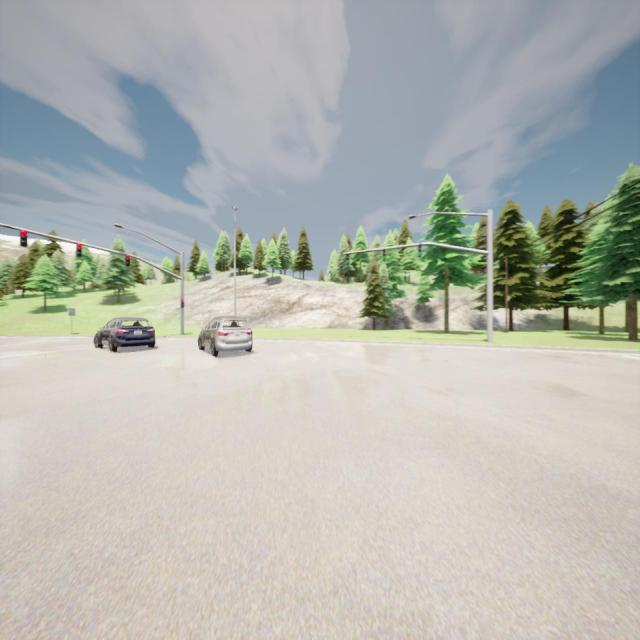Traffic_Signs: (68, 307, 75, 316)
Vehicle: (199, 314, 252, 356), (94, 318, 155, 352)
traffic_light: (20, 230, 27, 247), (77, 242, 82, 258), (125, 254, 131, 267), (418, 245, 422, 258), (382, 250, 386, 262), (345, 254, 349, 265), (181, 298, 184, 308)
